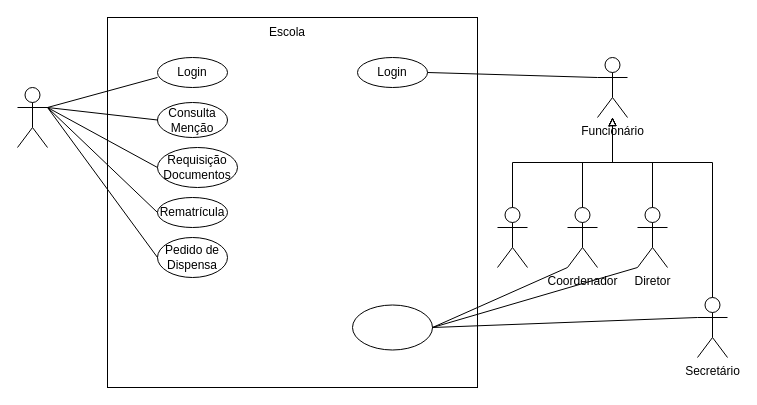
Image size: 757x405. Some labels were removed from this diagram. The shapes that lost their labels are listed below. From the top down, each one's centre as x and y in pixels, then its label:
the point at 32,117: Aluno
the point at 512,237: Professor
the point at 392,327: Alterar Cadastro do Aluno
